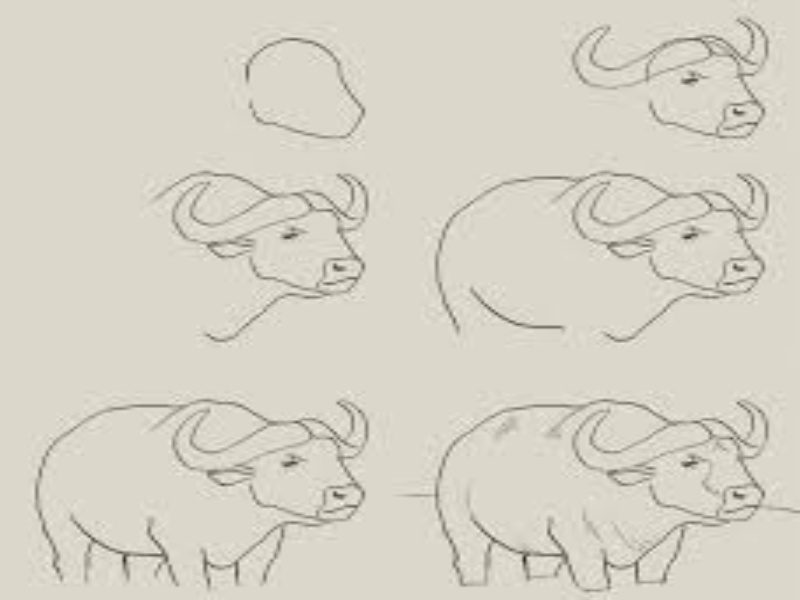buffalo: (423, 401, 785, 591)
